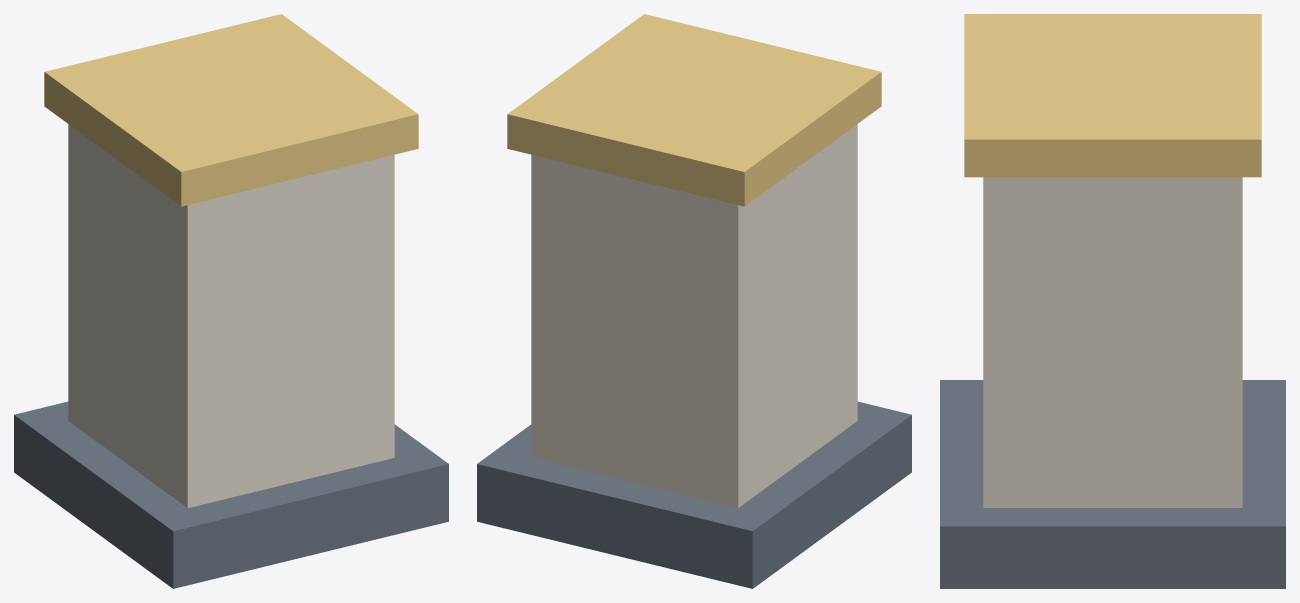
File: display-plinth.glb
3 views of the same model, side by side, from view 1: azimuth 30°, elevation 25°; view 2: azimuth 150°, elevation 25°; view 3: azimuth 270°, elevation 25° (orthographic). The views are drawn at different scales.
Parts seen in each view (by area): view 1: world; view 2: world; view 3: world.
Part boxes in pixels (x1=…): world: x1=14, y1=14, x2=448, y2=588; world: x1=477, y1=14, x2=911, y2=588; world: x1=940, y1=14, x2=1285, y2=588.
Size of the model in its own units: 1 by 1.4 by 1.
